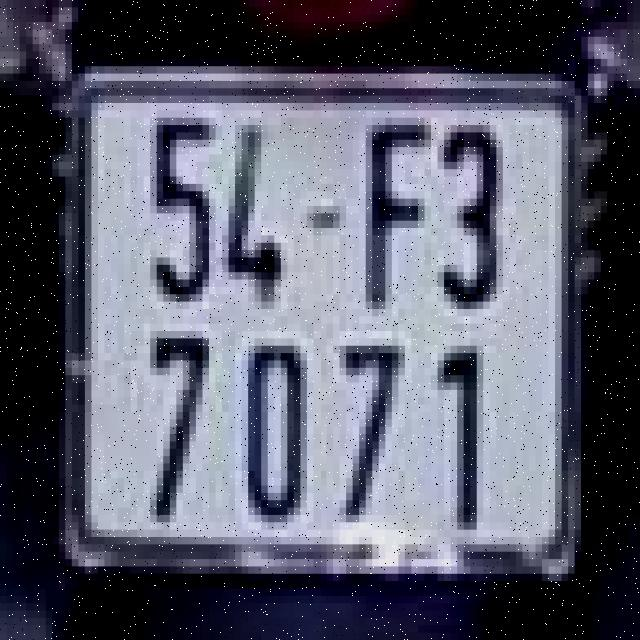0: (232, 328, 317, 534)
1: (431, 331, 490, 552)
3: (431, 103, 516, 331)
4: (222, 110, 274, 294)
5: (134, 100, 219, 306)
7: (339, 320, 412, 541), (140, 320, 219, 519)
F: (353, 114, 431, 327)
